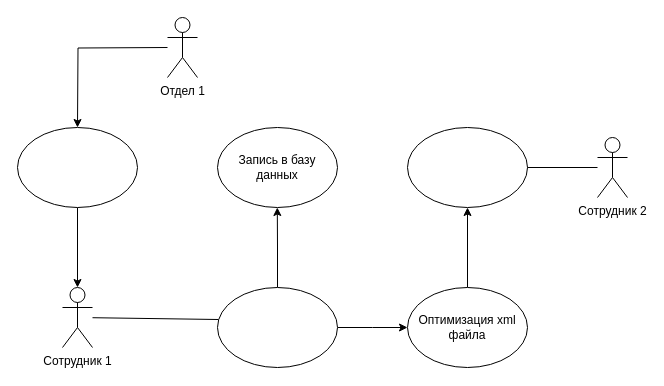
The diagram is 664 pixels wide and 386 high, and some of its shapes have lost their labels. Each missing label, with the centre of its shape:
"Парс xml файла" belongs at [277,327].
"Создание xml файла" belongs at [77,167].
"Создание отчётов в формате excel" belongs at [467,167].
